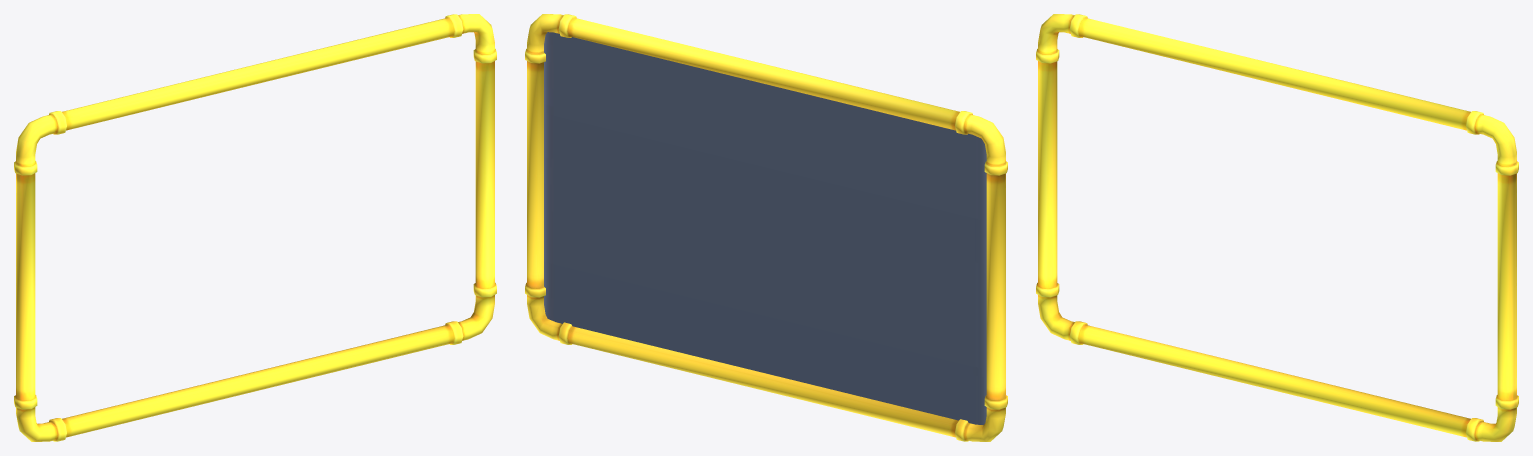
The model's file is workstation_display.glb.
3 renders of one model, left to right at view 1: azimuth 30°, elevation 25°; view 2: azimuth 150°, elevation 25°; view 3: azimuth 330°, elevation 25°, orthographic.
Parts seen in each view (by area): view 1: obj_queue; view 2: obj_queue; view 3: obj_queue.
Boxes of the visible parts, left/top/right/bottom form: obj_queue: left=14, top=14, right=496, bottom=441; obj_queue: left=525, top=14, right=1007, bottom=441; obj_queue: left=1036, top=14, right=1518, bottom=441.
Size of what is drawn, in the model's own units: 0.8851 by 0.5788 by 0.0386.
Materials: 2 (2 with a texture image).
